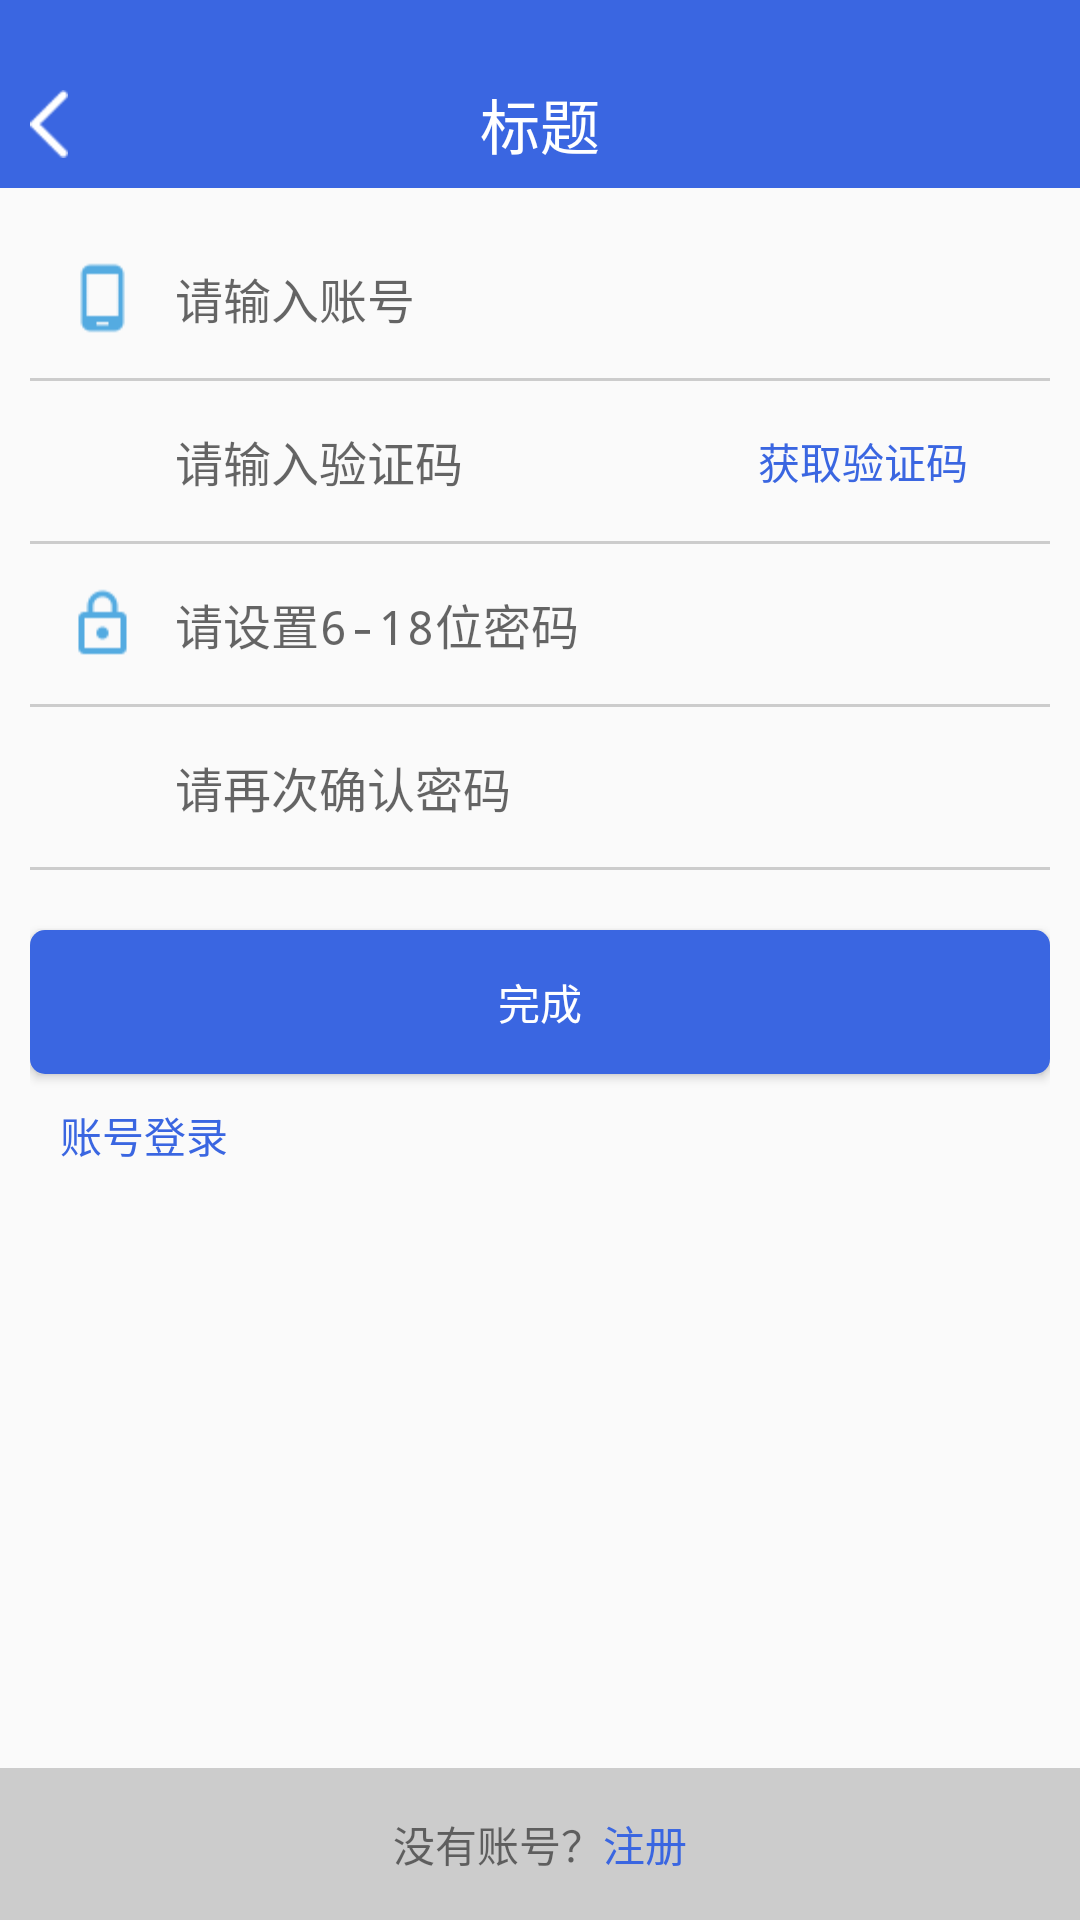

Icon click points for this 1080x1920 phone screenshot, format (x=x, y=y):
chevron left: (x=49, y=124)
lock: (x=102, y=622)
phone android: (x=102, y=298)
